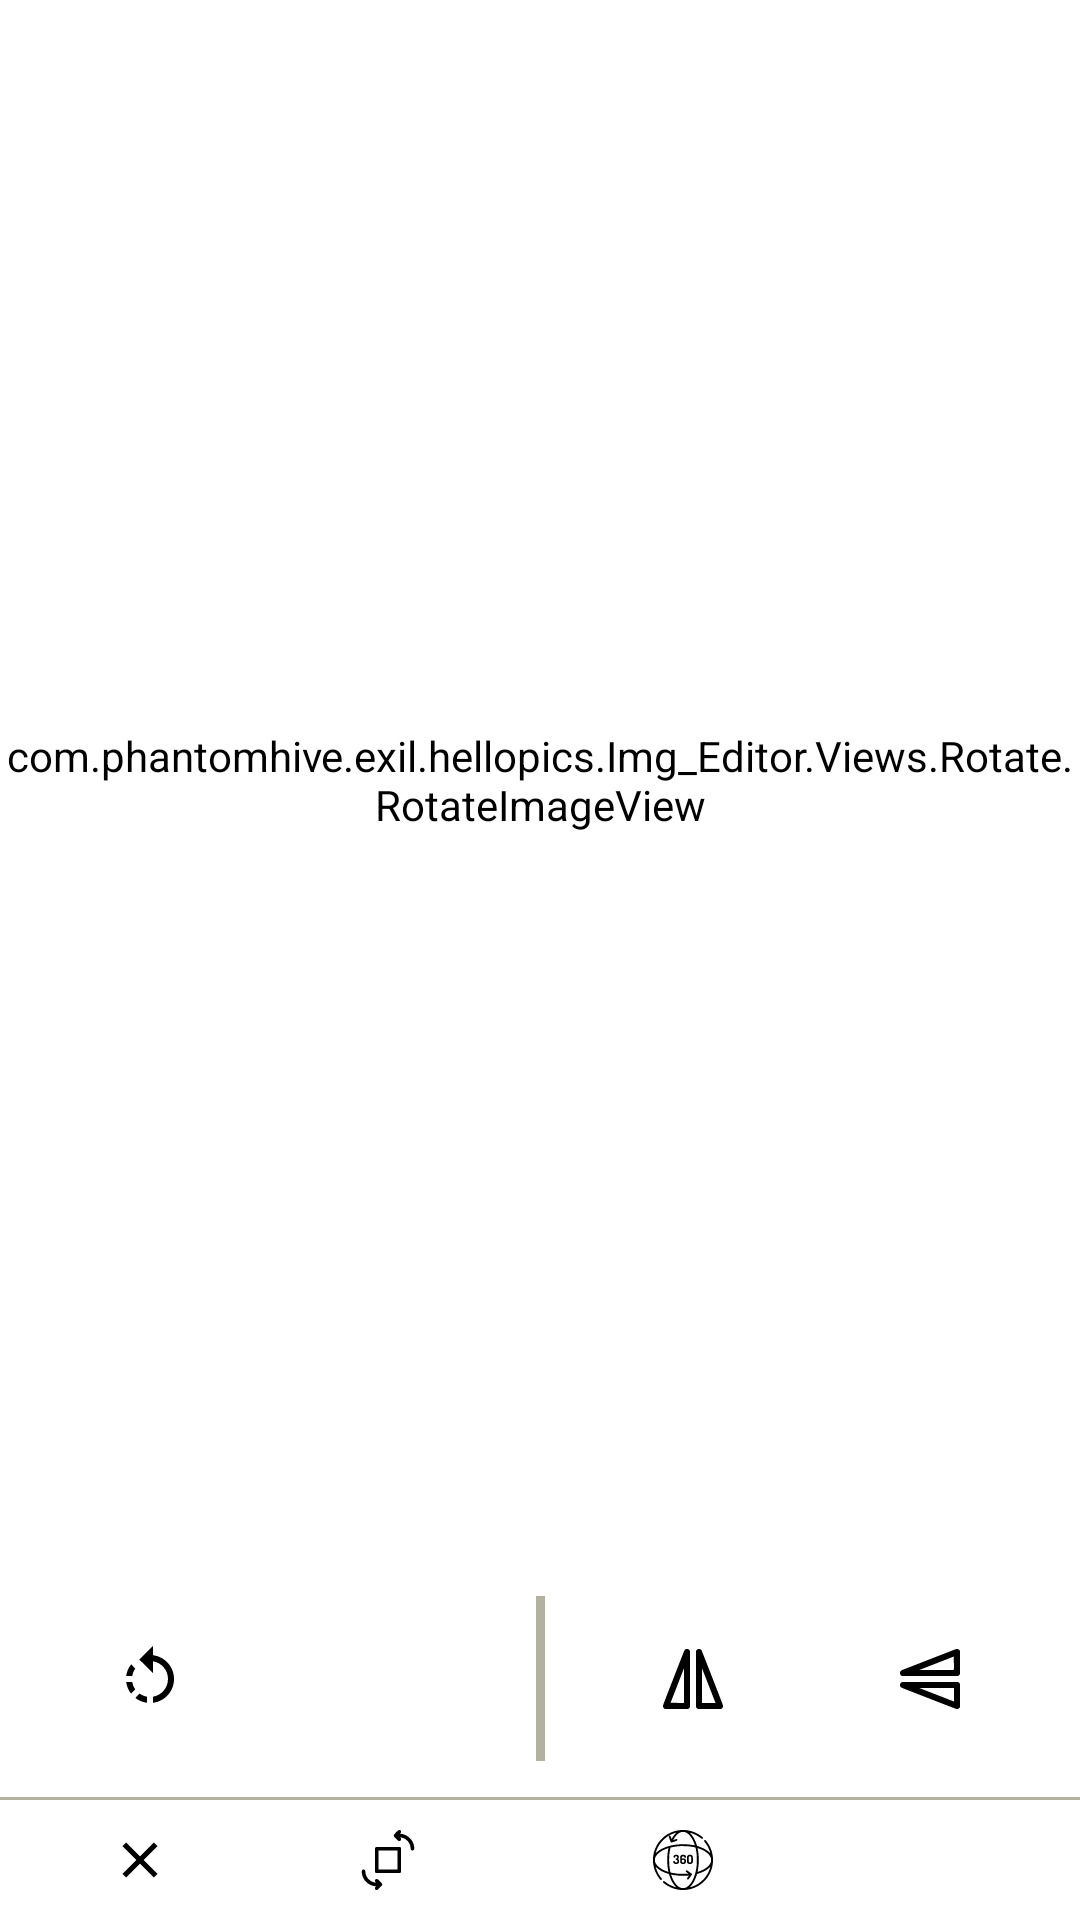

Icon click points for this 1080px x 1920px phone screenshot, format point (x, y):
close: point (140, 1860)
degree: point (683, 1860)
flip horizontal: point (693, 1679)
flip vertical: point (930, 1679)
rotate left: point (150, 1674)
simple rotation: point (388, 1860)
